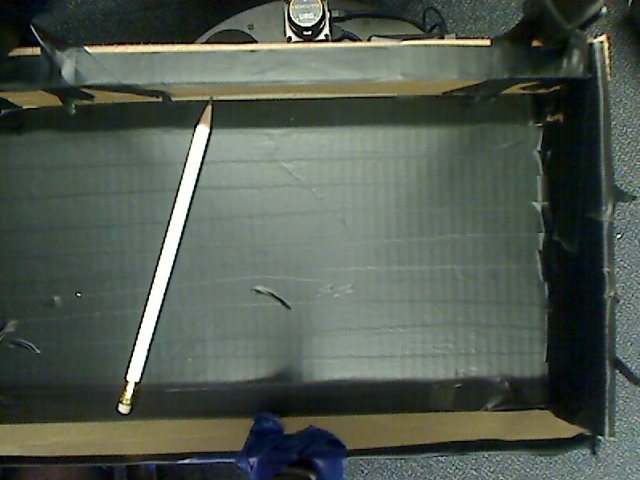pencil: (107, 87, 218, 420)
